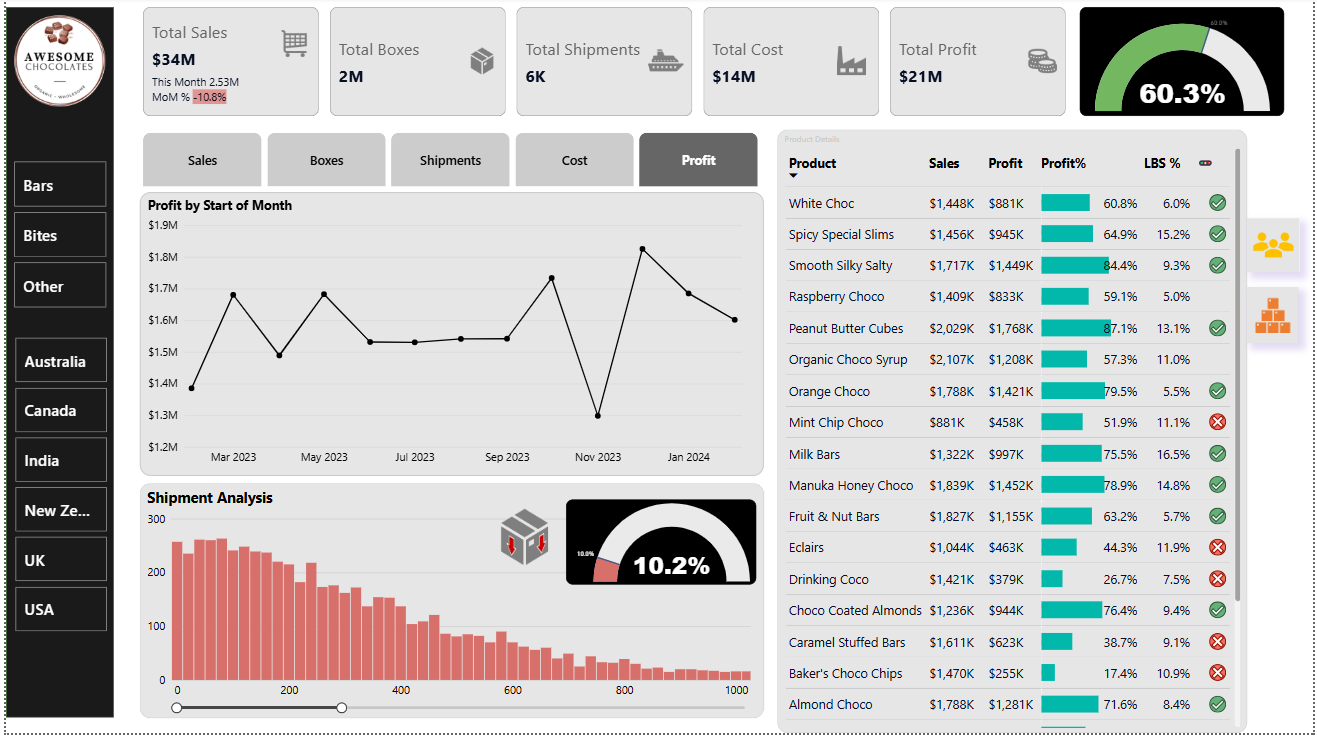

What the dashboard file says about the page in this screenshot:
{"tool":"powerbi","page":{"name":"Sales Report","canvas":[1920,1080],"ordinal":1},"visuals":[{"type":"shape","box":[0,14.9,158.3,1042.7],"z":0},{"type":"cardVisual","fields":{"Data":["_Measures.Total Sales","_Measures.Total Boxes","_Measures.Total Shipments","_Measures.Total Cost","_Measures.Total Profit"]},"box":[195.5,14.9,1364.8,160.1],"z":1000},{"type":"gauge","fields":{"Y":["_Measures.Profit%"]},"box":[1575.2,14.9,299.8,160.1],"z":2000},{"type":"image","box":[0,22.3,158.3,143.4],"z":3000},{"type":"lineChart","fields":{"Y":["_Measures.Total Profit"],"Category":["calendar.Start of Month"]},"box":[195.5,286.7,916.1,417.1],"z":4000},{"type":"advancedSlicerVisual","fields":{"Values":["Measure Selector.Measure Selector"]},"box":[195.5,193.6,916.1,89.4],"z":5000},{"type":"columnChart","title":"Shipment Analysis","fields":{"Category":["shipments.Boxes (bins)"],"Y":["_Measures.Total Shipments"]},"box":[195.5,713.1,916.1,344.5],"z":6000},{"type":"gauge","fields":{"Y":["_Measures.LBS %"]},"box":[821.1,737.3,279.3,124.7],"z":7000},{"type":"image","box":[700.1,737.3,121,109.9],"z":8000},{"type":"tableEx","title":"Product Details","fields":{"Values":["products.Product","_Measures.Total Sales","_Measures.Total Profit","_Measures.Profit%","_Measures.LBS %","_Measures.Profit Target Indicator"]},"box":[1131.7,194.4,689.7,885.9],"z":10000},{"type":"image","title":"People Icon","box":[1821.4,324.7,77,78.9],"z":11000},{"type":"image","title":"Product Icon","box":[1821.4,425.5,75.2,82.5],"z":12000},{"type":"advancedSlicerVisual","fields":{"Values":["products.Category"]},"box":[7.4,236.5,145.2,225.3],"z":13000},{"type":"advancedSlicerVisual","fields":{"Values":["locations.Geo"]},"box":[9.2,495.2,144.9,443.9],"z":14000}]}

Visuals, with their boxes in screenshot pixels (x1, y1, x2, y2), scaled from the page's 1920x1080 canvas onto the 1317x738 screenshot:
shape: l=0, t=10, r=109, b=723
cardVisual - _Measures.Total Sales x _Measures.Total Boxes: l=134, t=10, r=1070, b=120
gauge - _Measures.Profit%: l=1080, t=10, r=1286, b=120
image: l=0, t=15, r=109, b=113
lineChart - _Measures.Total Profit x calendar.Start of Month: l=134, t=196, r=762, b=481
advancedSlicerVisual - Measure Selector.Measure Selector: l=134, t=132, r=762, b=193
"Shipment Analysis" columnChart: l=134, t=487, r=762, b=723
gauge - _Measures.LBS %: l=563, t=504, r=755, b=589
image: l=480, t=504, r=563, b=579
"Product Details" tableEx: l=776, t=133, r=1249, b=737
"People Icon" image: l=1249, t=222, r=1302, b=276
"Product Icon" image: l=1249, t=291, r=1301, b=347
advancedSlicerVisual - products.Category: l=5, t=162, r=105, b=316
advancedSlicerVisual - locations.Geo: l=6, t=338, r=106, b=642
